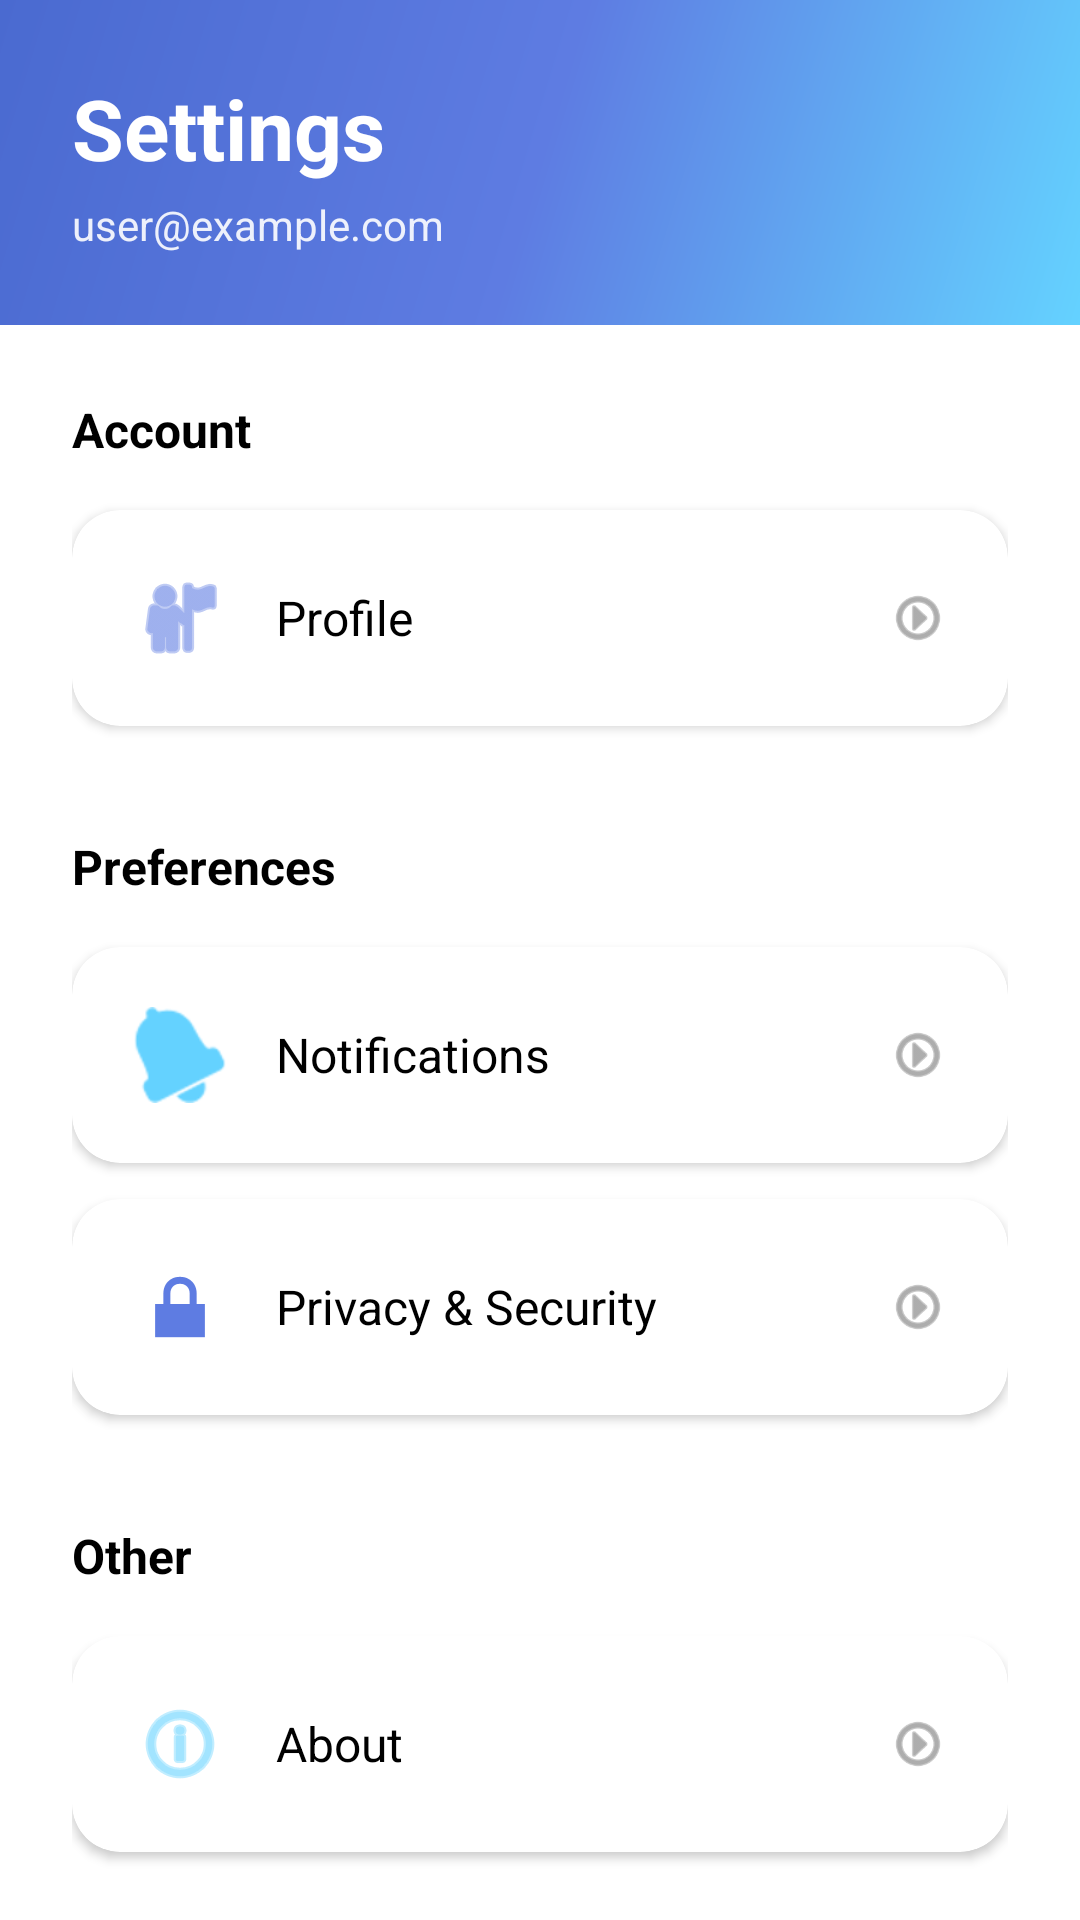

Point at icon controls on the screen. Image size 1080px×1920px, points as point (x, y).
info details: point (180, 1744)
lock: point (180, 1307)
myplaces: point (181, 618)
popup reminder: point (180, 1055)
